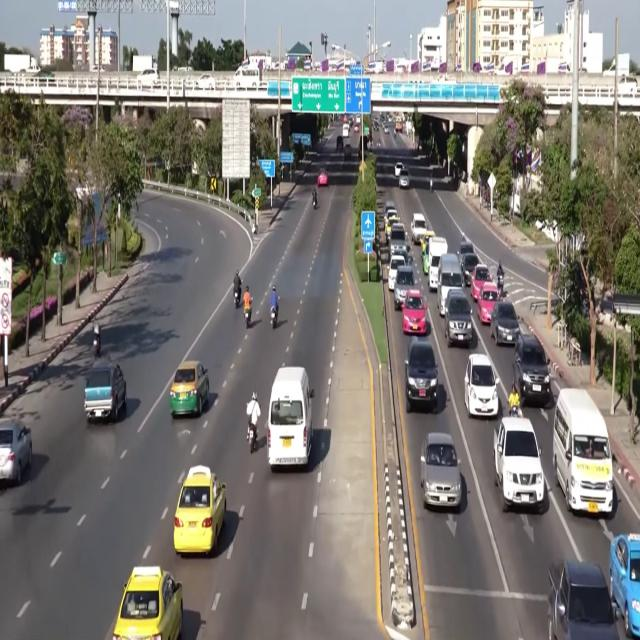car: (113, 567, 183, 639), (174, 465, 226, 554), (421, 432, 461, 510), (610, 534, 639, 637), (513, 332, 552, 405), (84, 360, 126, 422), (405, 336, 437, 413), (464, 353, 499, 416), (170, 361, 209, 416), (0, 419, 32, 486), (444, 288, 473, 346), (490, 301, 519, 344), (402, 289, 426, 335), (394, 266, 415, 310), (477, 282, 498, 324), (470, 263, 492, 301), (388, 255, 407, 291), (421, 229, 434, 274), (389, 223, 407, 255), (461, 254, 479, 286), (411, 213, 426, 244), (385, 208, 399, 238), (421, 228, 434, 258), (137, 69, 158, 87), (458, 240, 475, 259), (196, 73, 215, 89), (394, 248, 413, 264), (399, 169, 409, 188), (317, 170, 327, 186), (385, 200, 395, 215), (395, 163, 404, 177), (344, 144, 352, 159), (336, 136, 343, 150), (383, 125, 389, 134), (354, 124, 359, 133), (355, 115, 360, 124), (343, 115, 347, 123)
scooty: (93, 330, 100, 357), (249, 425, 255, 454), (497, 275, 503, 299), (510, 405, 522, 417), (245, 307, 251, 328), (271, 307, 277, 328), (234, 289, 240, 308), (313, 197, 317, 209)
truck: (548, 560, 619, 639), (493, 416, 544, 512), (4, 54, 39, 73), (132, 56, 155, 72)
